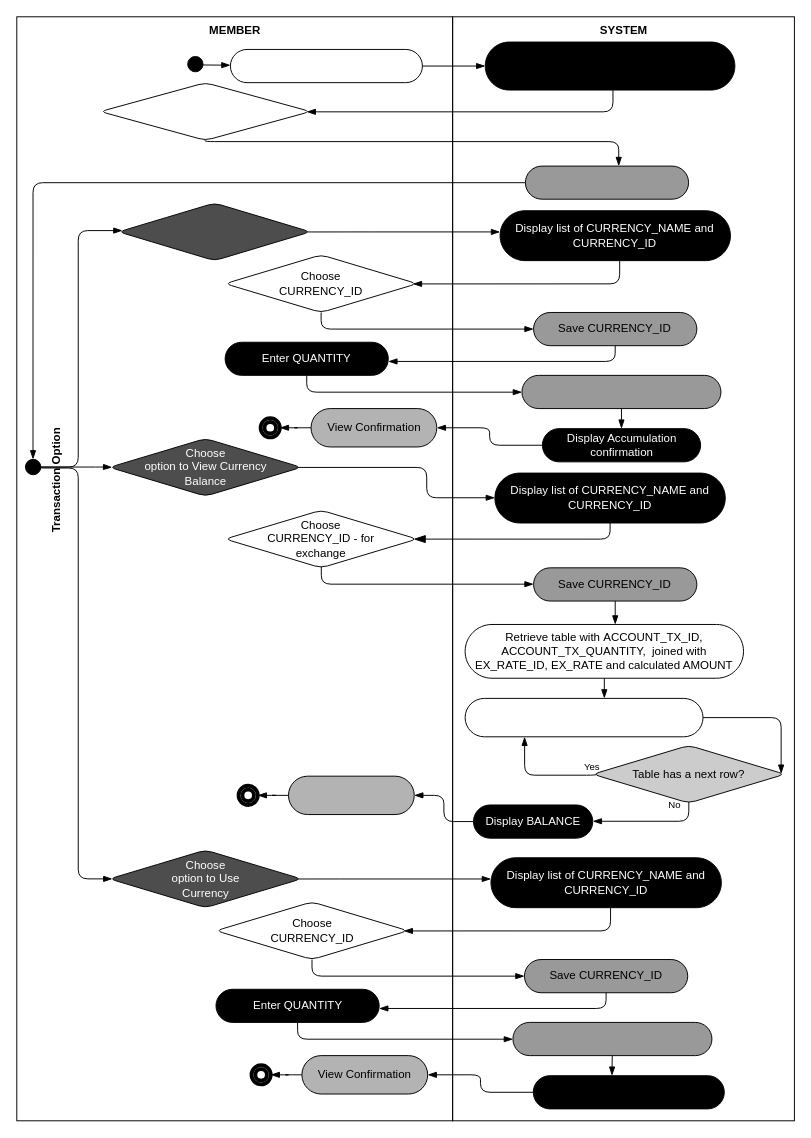
The diagram is 811 pixels wide and 1138 high, and some of its shapes have lost their labels. The box of each missing label's shape, as (x1, y1, x2, y2) in pixels:
Access Member Accounts: (229, 48, 422, 83)
Choose MEMBER_ID: (99, 82, 311, 140)
Choose option to Accumulate Currency: (118, 202, 311, 261)
Display list of MEMBER_NAME and MEMBER_ID: (484, 41, 735, 90)
Display Usage confirmation: (532, 1075, 724, 1109)
For each row in table: Update and save BALANCE with calculated AMOUNT: (464, 697, 703, 737)
Save MEMBER_ID: (524, 165, 689, 199)
Save negative QUANTITY and SYSTEM DATE: (512, 1021, 712, 1056)
Save QUANTITY and SYSTEM DATE: (521, 374, 721, 409)
View BALANCE: (288, 775, 414, 815)
